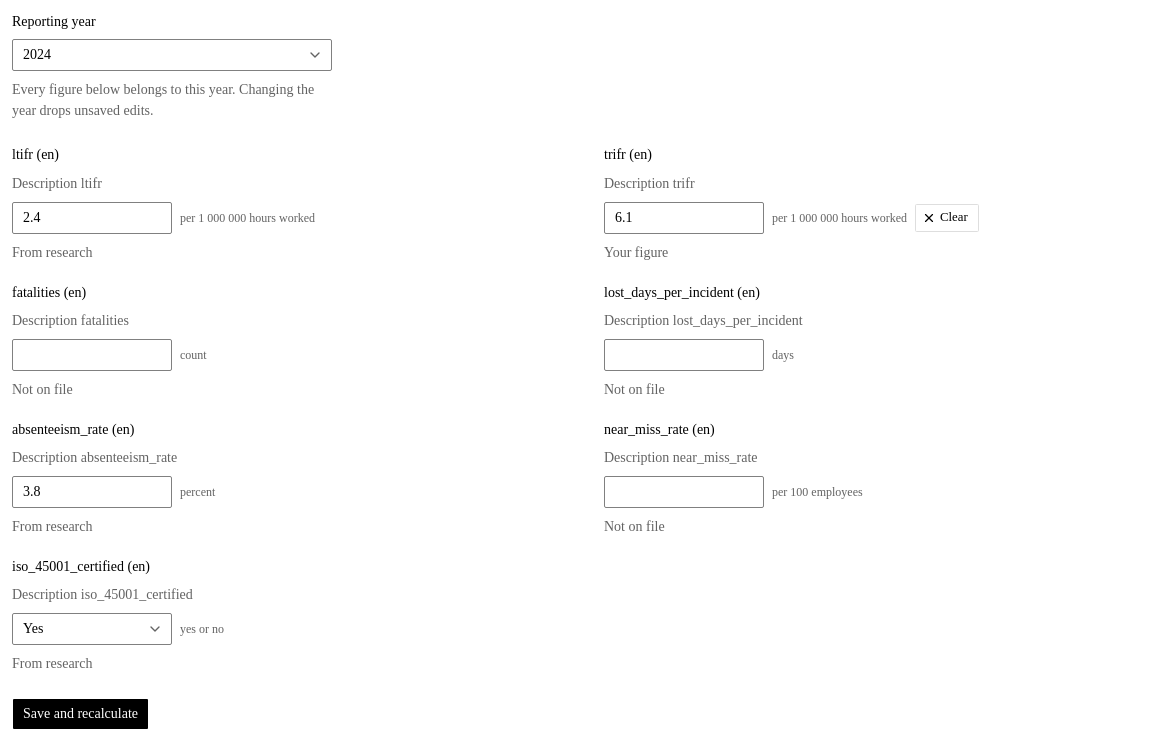
Test: KpiForm (AC-3, AC-7) › sends only the changed fields, then announces the recalculation and refreshes
Replace the text in the field labelled "ltifr (en)" with "2,9": (92, 218) 12,202 -> 172,234
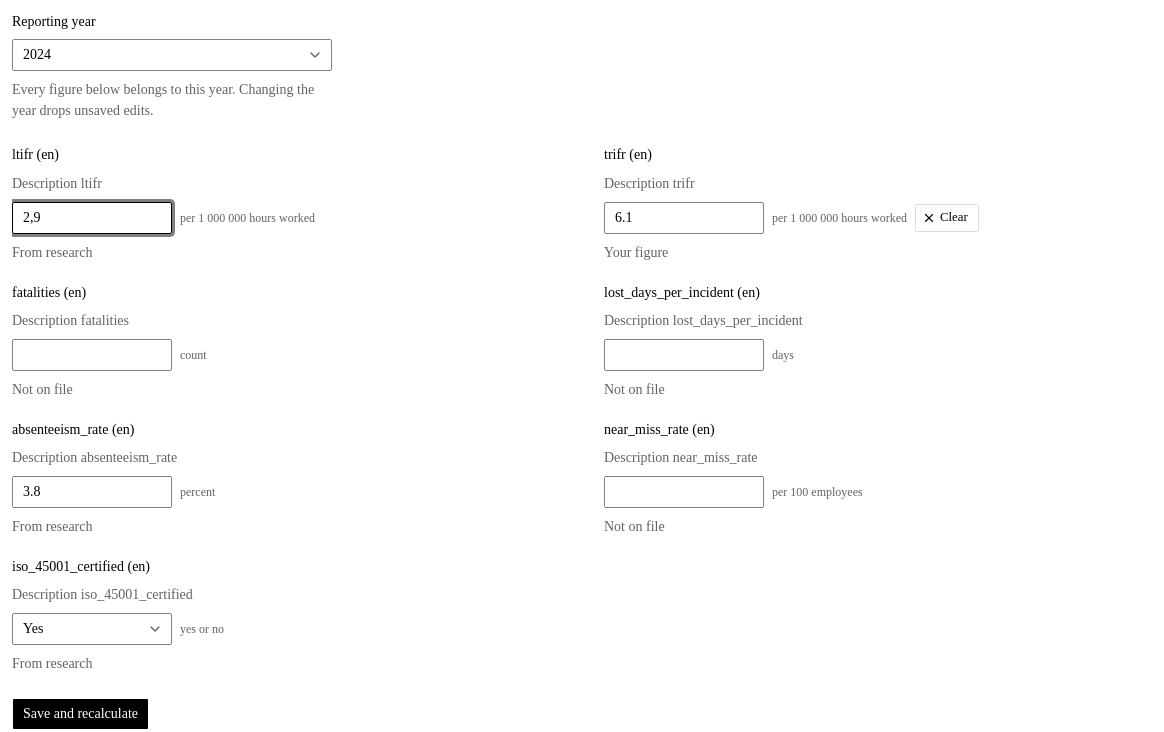
Click the button "Save and recalculate": (80, 714) 12,698 -> 149,730
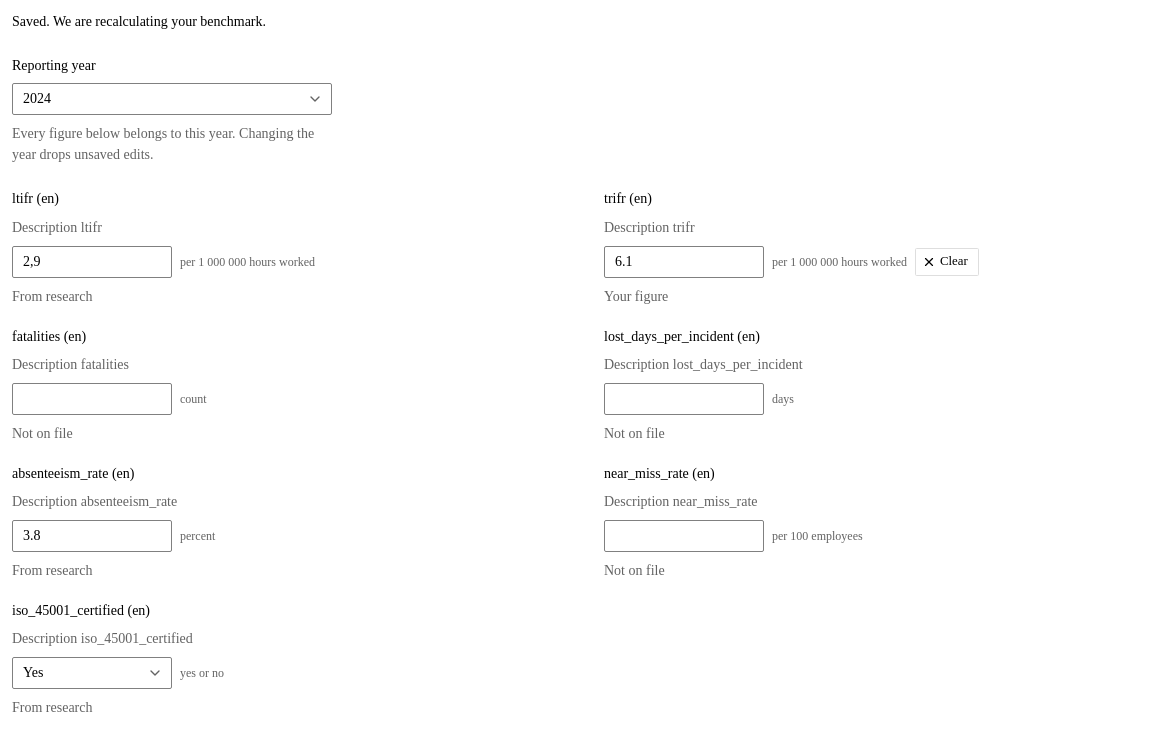
Check: the message reads "Saved. We are recalculating your benchmark.", box 12,14 -> 266,29
